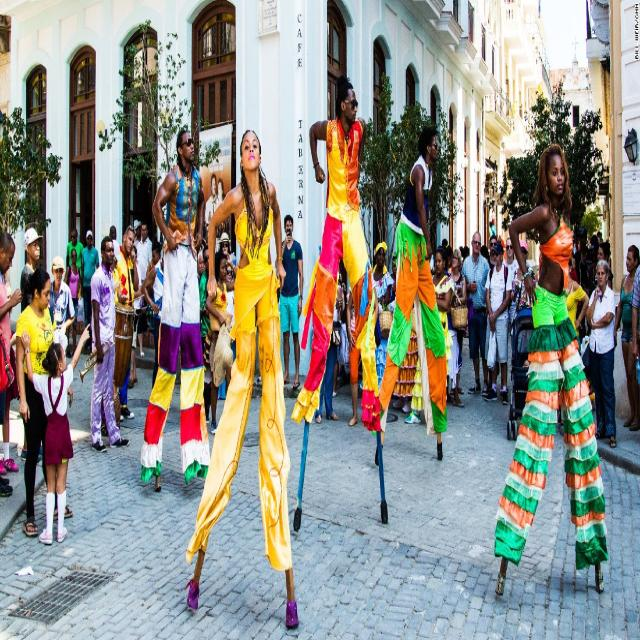body: (182, 126, 299, 632), (492, 137, 611, 598), (290, 75, 383, 432), (136, 124, 215, 502), (370, 124, 449, 468), (19, 320, 93, 546), (14, 266, 74, 540), (402, 243, 456, 426), (89, 233, 132, 454), (584, 257, 619, 449), (312, 261, 352, 428), (0, 228, 24, 500), (205, 250, 237, 438), (567, 228, 615, 352), (195, 171, 236, 307), (274, 213, 304, 392), (612, 243, 640, 433), (345, 271, 379, 427), (114, 223, 140, 423), (460, 230, 490, 399), (484, 240, 513, 407), (140, 252, 168, 391), (0, 317, 16, 499), (449, 246, 468, 395), (564, 253, 590, 355), (198, 306, 220, 423), (198, 245, 212, 425), (81, 230, 101, 354), (126, 242, 142, 391), (18, 224, 44, 314), (48, 254, 76, 335), (510, 238, 538, 317), (502, 236, 520, 348), (131, 218, 145, 361), (64, 248, 82, 358), (446, 329, 466, 421), (427, 237, 470, 279), (370, 240, 395, 307), (629, 260, 640, 393), (65, 226, 85, 282), (477, 234, 508, 270), (592, 240, 614, 290), (135, 222, 152, 286), (383, 252, 399, 314), (146, 240, 161, 282), (105, 223, 121, 260), (225, 258, 238, 299), (520, 348, 532, 376), (487, 200, 496, 234)
